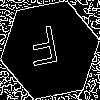F: (25, 25, 63, 76)
